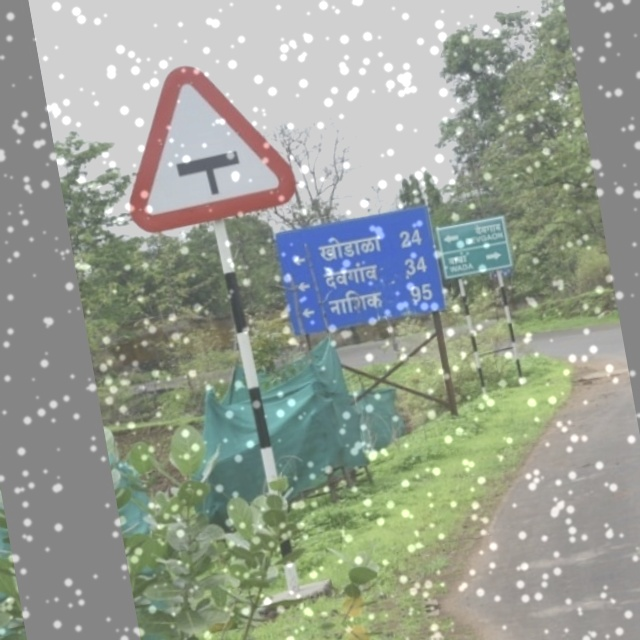T_Intersection: (107, 55, 304, 231)
